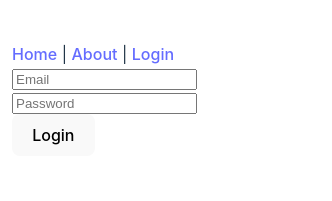
Test: shows an error message when login fails
This screenshot has width=332, height=201.
Type "user@gmail.com" into the field with placeholder "Email".
click(104, 80); type("user@gmail.com")  # box [12, 69, 197, 90]
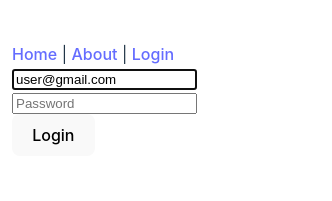
Type "wrongp@ssword" into the password field with placeholder "Password".
click(104, 104); type("wrongp@ssword")  # box [12, 93, 197, 114]
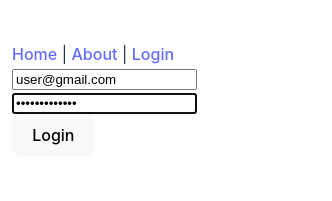
Click the button "Login".
click(53, 135)  # box [12, 114, 95, 156]
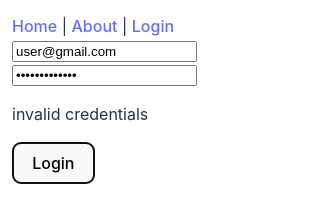
Result: the text "invalid credentials" is shown at [12, 104, 148, 124]
